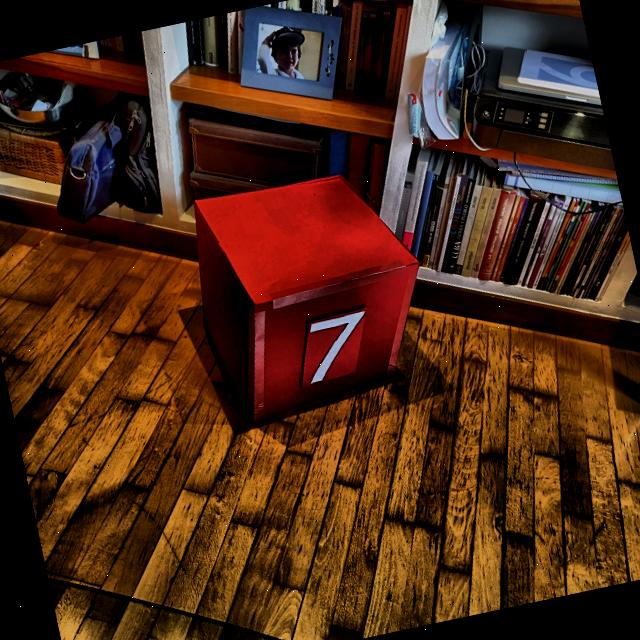red box: (178, 157, 442, 430)
seven: (296, 309, 376, 385)
